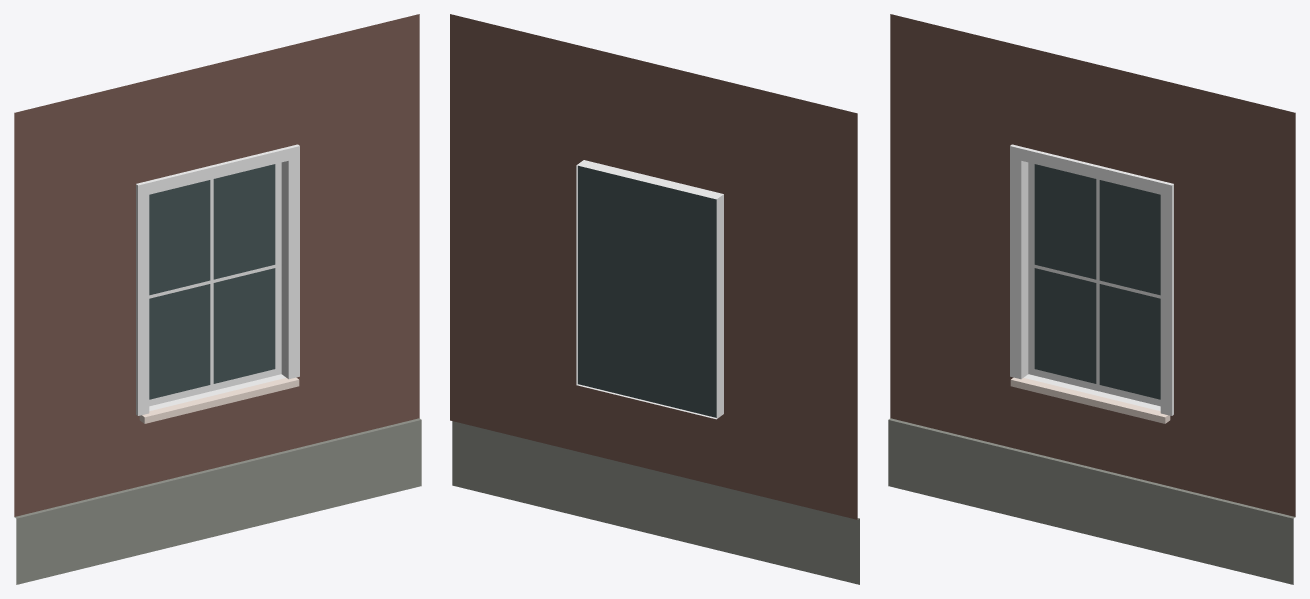
3 renders of one model, left to right at view 1: azimuth 30°, elevation 25°; view 2: azimuth 150°, elevation 25°; view 3: azimuth 330°, elevation 25°, orthographic.
Parts seen in each view (by area): view 1: a2000s2/800/base-w1; view 2: a2000s2/800/base-w1; view 3: a2000s2/800/base-w1.
Part boxes in pixels (bbox=[...]): a2000s2/800/base-w1: bbox=[14, 14, 421, 584]; a2000s2/800/base-w1: bbox=[450, 14, 859, 584]; a2000s2/800/base-w1: bbox=[888, 14, 1295, 584].
Size of the model in its own units: 3.2 by 3.55 by 0.17.
